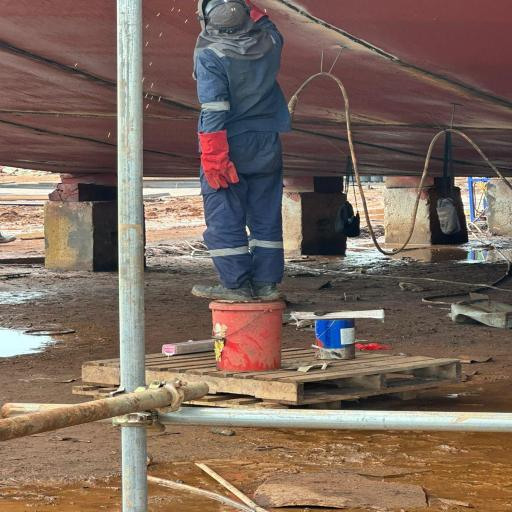safety_shoe: (192, 277, 254, 304), (240, 276, 286, 304)
